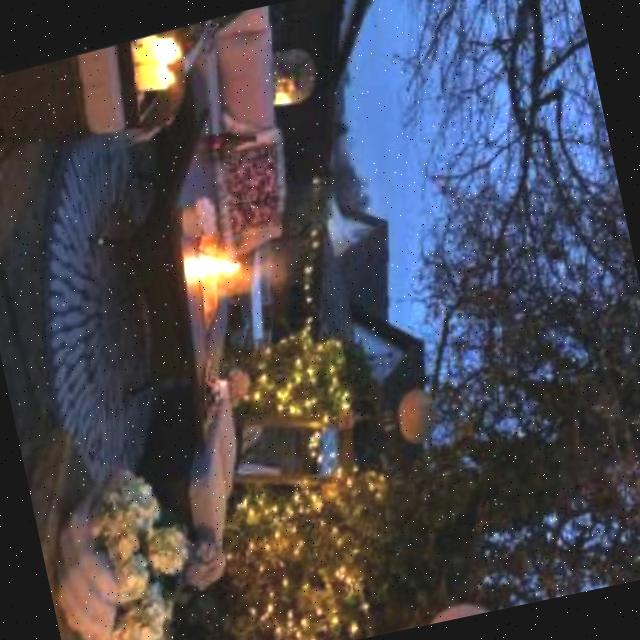fire: (165, 213, 259, 310), (133, 23, 194, 99)
